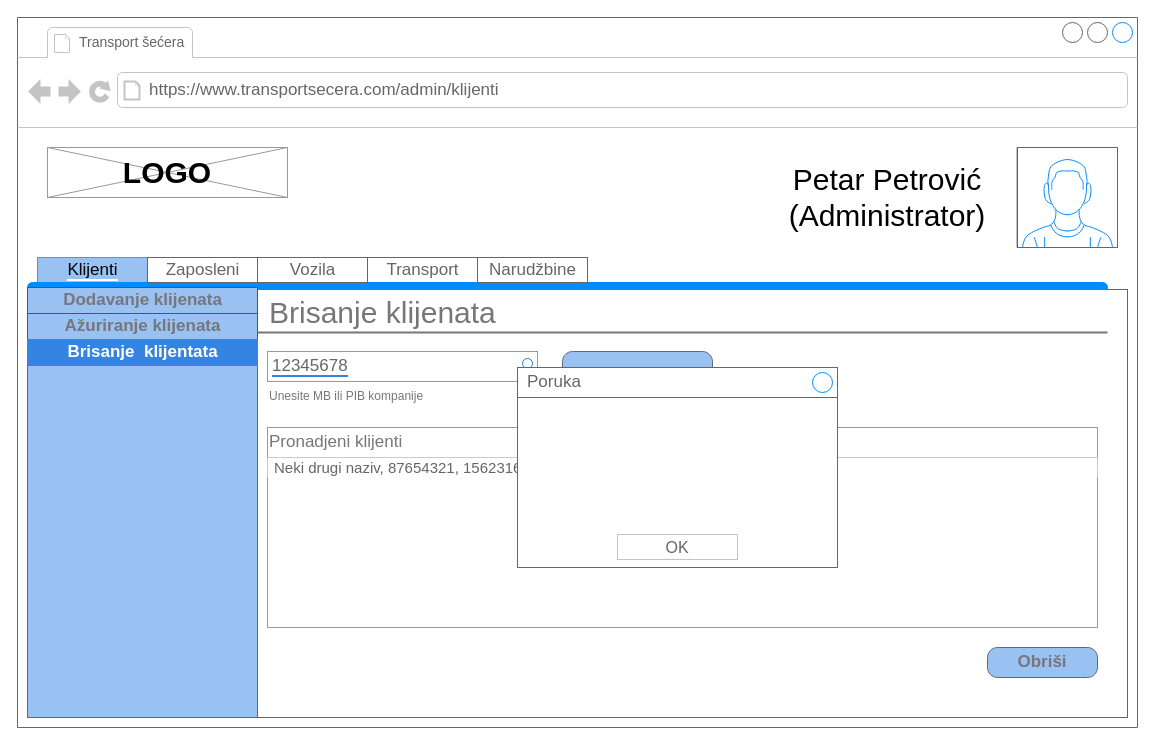
The diagram is 1155 pixels wide and 745 high, and some of its shapes have lost their labels. The box of each missing label's shape, as (x1, y1, x2, y2) in pixels:
Pretraži: (562, 350, 712, 382)
Uspešno ste obrisali klijenta.: (516, 366, 838, 568)
